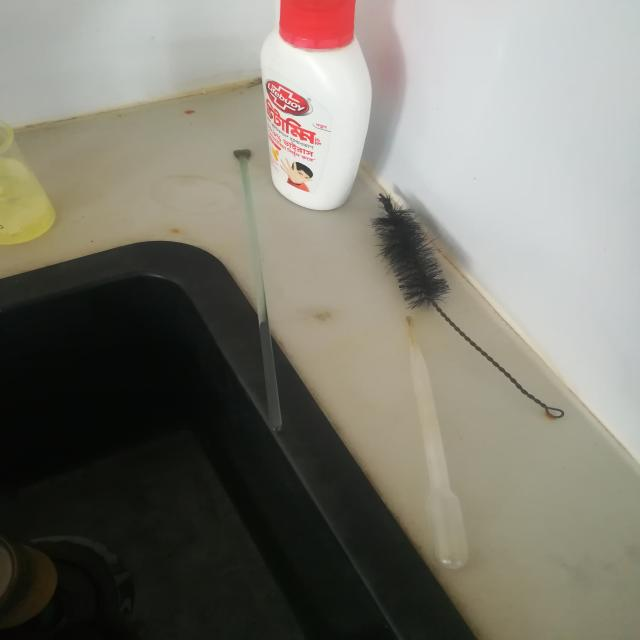Glass_Rod: (205, 110, 318, 452)
Pipette: (379, 286, 505, 614)
